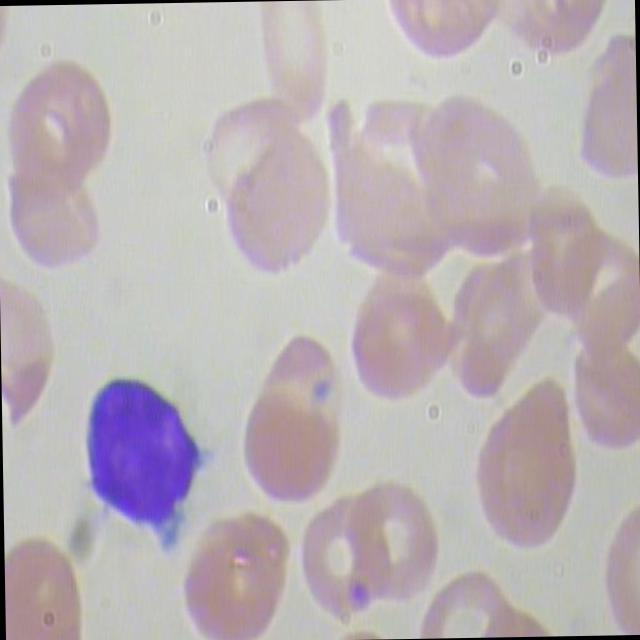RBC: (471, 376, 596, 556), (239, 328, 348, 512), (214, 132, 338, 292), (348, 259, 470, 413), (4, 59, 124, 191), (182, 507, 293, 640), (345, 484, 441, 614), (294, 497, 390, 627), (0, 165, 100, 288), (567, 29, 638, 188), (0, 275, 69, 436), (252, 1, 334, 130), (4, 531, 84, 640), (571, 337, 640, 461)
WBC: (70, 359, 222, 544)
